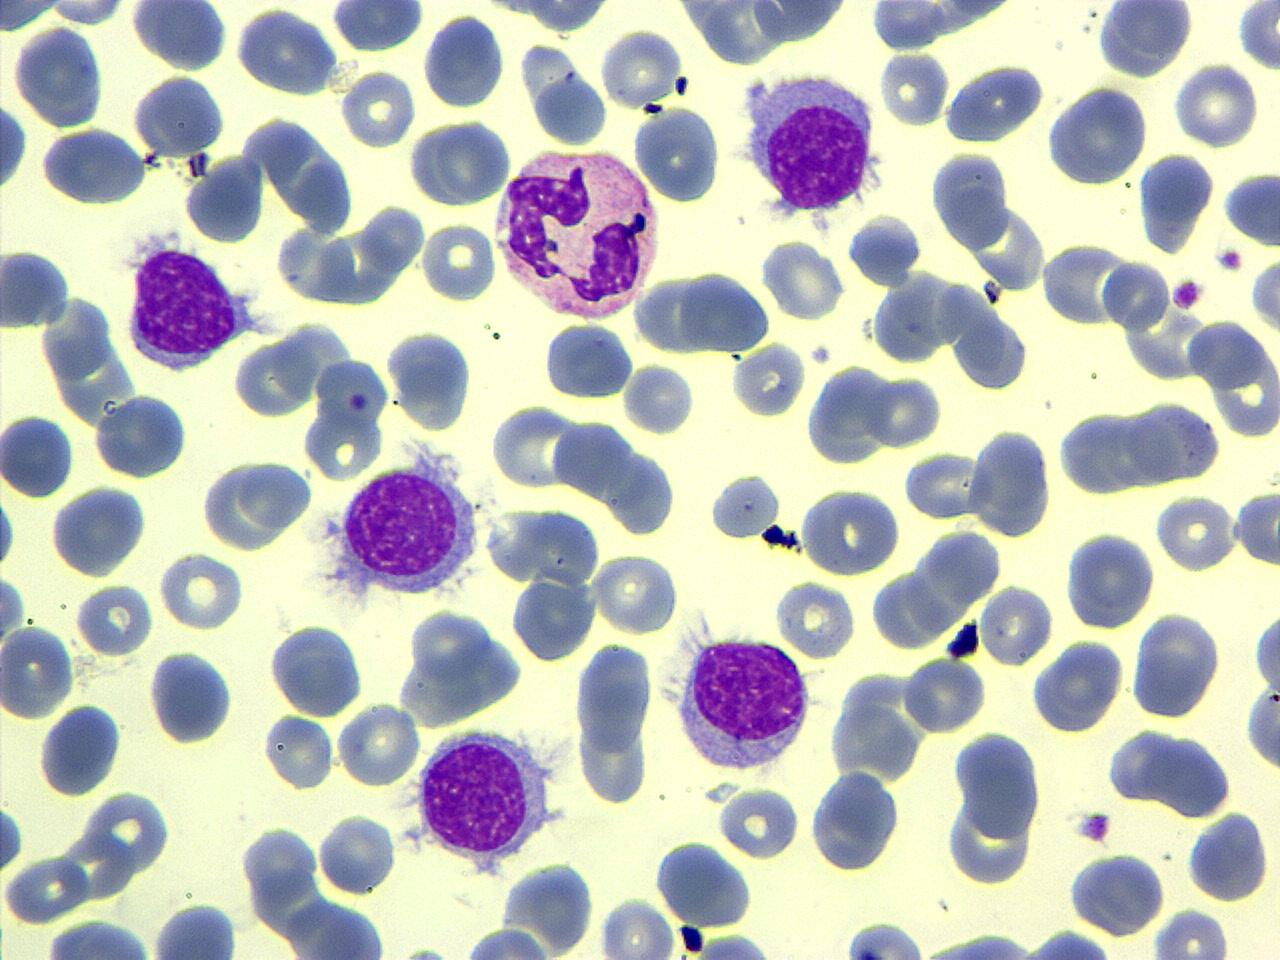Platelets: (706, 472, 784, 541), (1234, 0, 1280, 77), (840, 920, 926, 960), (0, 98, 29, 198), (1248, 253, 1280, 335), (0, 802, 25, 876), (0, 490, 18, 573), (1074, 808, 1116, 844), (944, 620, 981, 659), (1169, 275, 1205, 312), (1215, 246, 1247, 274), (402, 942, 449, 960)
RBC: (396, 604, 522, 728), (198, 453, 321, 552), (1129, 605, 1221, 722), (232, 4, 343, 100), (966, 424, 1055, 541), (516, 40, 611, 150), (496, 856, 599, 956), (10, 23, 108, 127), (383, 326, 476, 434), (574, 639, 657, 760), (798, 484, 904, 578), (406, 116, 513, 208), (1061, 528, 1157, 630), (1029, 636, 1125, 735), (632, 101, 722, 205), (35, 125, 149, 207), (802, 362, 889, 468), (1066, 848, 1170, 936), (91, 392, 191, 480), (927, 148, 1012, 251), (1134, 150, 1214, 257), (128, 74, 229, 158), (1123, 398, 1223, 483), (422, 10, 506, 111), (508, 572, 599, 664), (592, 549, 684, 637), (183, 150, 265, 247), (678, 267, 769, 354), (1174, 57, 1260, 149), (541, 320, 635, 402), (0, 620, 77, 720), (598, 25, 686, 111), (759, 235, 847, 321), (316, 808, 400, 896), (338, 698, 420, 788), (577, 710, 652, 807), (158, 548, 246, 630), (976, 580, 1055, 670), (772, 576, 856, 659), (1153, 490, 1239, 572), (903, 653, 987, 736), (0, 410, 78, 499), (549, 415, 632, 498), (1208, 345, 1280, 439), (1157, 733, 1235, 819), (420, 218, 498, 304), (0, 246, 77, 332), (338, 68, 417, 149), (717, 784, 800, 860), (75, 580, 154, 658), (903, 447, 984, 523), (864, 372, 944, 449), (732, 340, 808, 419), (877, 47, 951, 129), (847, 210, 924, 287), (261, 710, 336, 791), (1, 854, 87, 924), (622, 360, 698, 437), (1104, 728, 1178, 804), (148, 901, 244, 959), (328, 0, 427, 55), (708, 470, 784, 542), (597, 893, 677, 960), (1100, 256, 1170, 332), (1221, 166, 1279, 250), (1148, 904, 1234, 958), (1234, 483, 1280, 572), (841, 919, 929, 959), (1244, 683, 1280, 773), (0, 94, 28, 201), (46, 0, 130, 27), (0, 0, 66, 33), (0, 802, 25, 878)
WBC: (488, 143, 664, 321), (322, 442, 486, 604), (670, 626, 816, 778), (740, 68, 882, 222), (412, 724, 562, 868), (257, 197, 436, 315), (120, 233, 264, 376), (400, 604, 527, 728), (662, 1, 858, 70), (197, 453, 319, 553), (1043, 82, 1153, 188), (804, 765, 906, 876), (796, 482, 907, 579), (266, 618, 370, 720), (951, 727, 1043, 842), (382, 323, 478, 433), (234, 3, 344, 98), (968, 422, 1054, 542), (11, 23, 109, 129), (48, 481, 152, 580), (518, 40, 610, 151), (1134, 607, 1222, 723), (498, 854, 598, 956), (574, 639, 654, 762), (1063, 528, 1159, 630), (145, 644, 240, 747), (653, 837, 757, 930), (1030, 634, 1126, 734), (36, 124, 150, 207), (1124, 394, 1224, 487), (942, 61, 1048, 147), (93, 389, 190, 483), (858, 0, 1028, 53), (1185, 806, 1275, 904), (422, 9, 506, 114), (36, 699, 125, 797), (929, 146, 1011, 252), (1135, 149, 1215, 256), (1091, 0, 1197, 81), (131, 74, 230, 160), (1066, 850, 1166, 936), (508, 574, 602, 662), (540, 320, 637, 403), (129, 2, 231, 74), (0, 408, 77, 501), (453, 0, 632, 35), (148, 899, 240, 960), (327, 0, 428, 54), (708, 470, 782, 543), (33, 917, 161, 958), (1222, 166, 1280, 251), (907, 929, 1055, 960), (454, 925, 558, 960), (840, 919, 928, 959), (1012, 926, 1120, 958), (1234, 1, 1280, 75), (1244, 686, 1280, 774), (1252, 598, 1280, 707)
